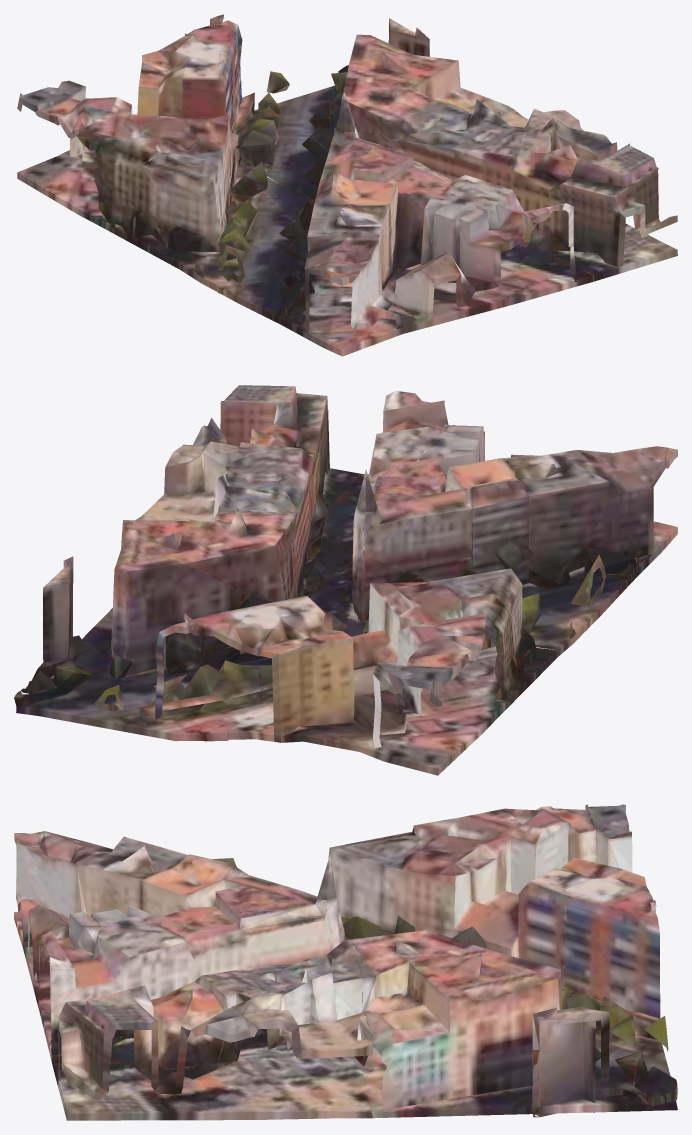
The picture shows the model from 3 angles, top to bottom: view 1: azimuth 30°, elevation 25°; view 2: azimuth 150°, elevation 25°; view 3: azimuth 270°, elevation 25°; orthographic projection. The views are drawn at different scales.
Visible parts, largest first — view 1: Mesh_0; view 2: Mesh_0; view 3: Mesh_0.
Boxes of the visible parts, x1=… form: Mesh_0: x1=17, y1=14, x2=677, y2=356; Mesh_0: x1=14, y1=385, x2=677, y2=775; Mesh_0: x1=14, y1=804, x2=677, y2=1120.
Bounding box in the file's own units: 134 × 46.04 × 165.
1 material, 1 textured.
